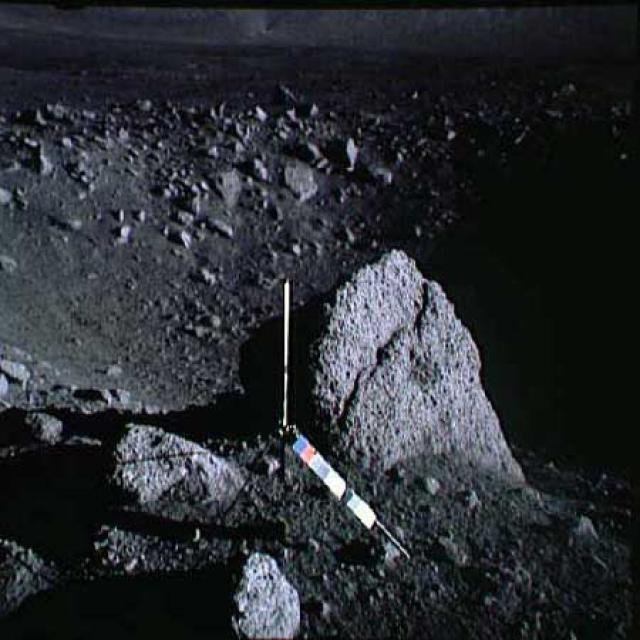artifact: (220, 274, 411, 562)
rock: (302, 247, 530, 486), (108, 417, 242, 523), (214, 548, 306, 640), (20, 409, 61, 447), (282, 158, 318, 200), (214, 168, 247, 209), (336, 134, 366, 172), (203, 213, 234, 242), (33, 142, 52, 180), (253, 156, 274, 186), (371, 162, 393, 188), (168, 227, 192, 249), (113, 222, 132, 246), (134, 209, 150, 224), (115, 208, 126, 221)
